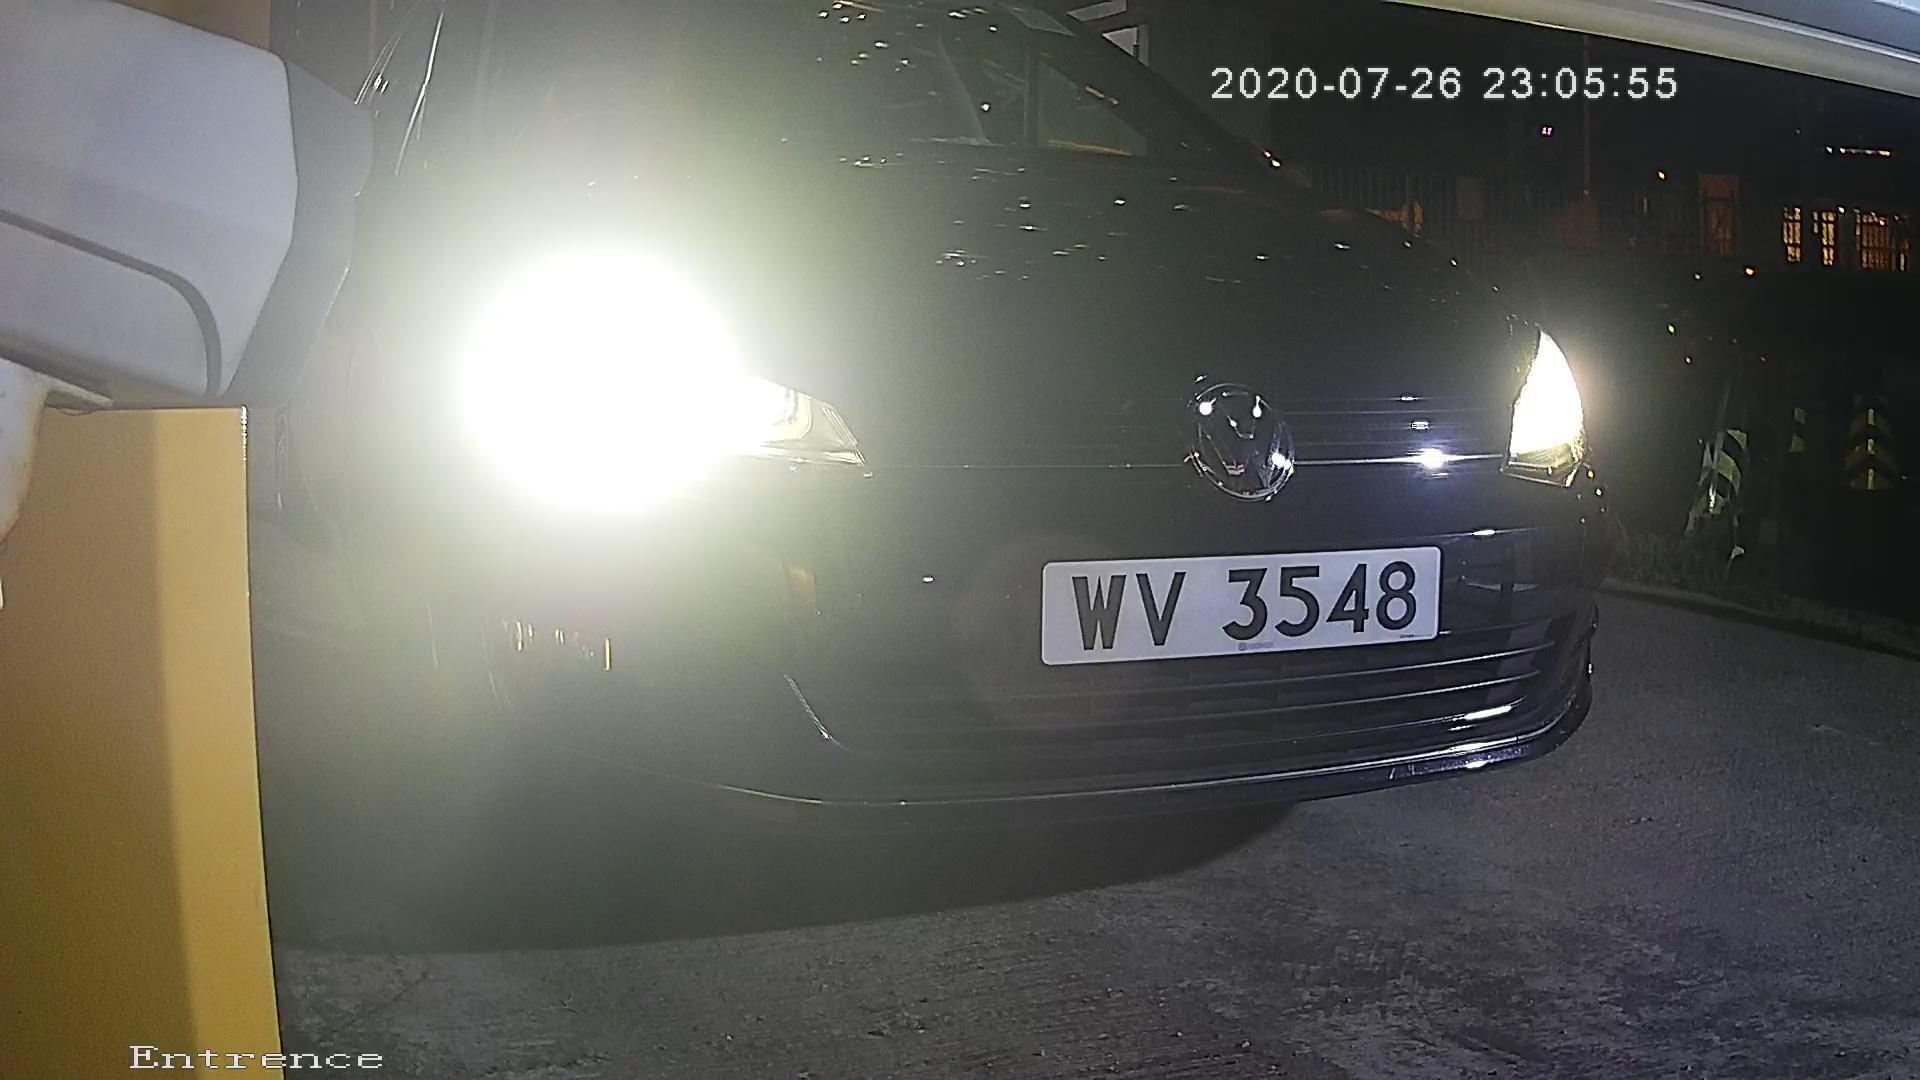License Plate: (1029, 526, 1458, 676)
